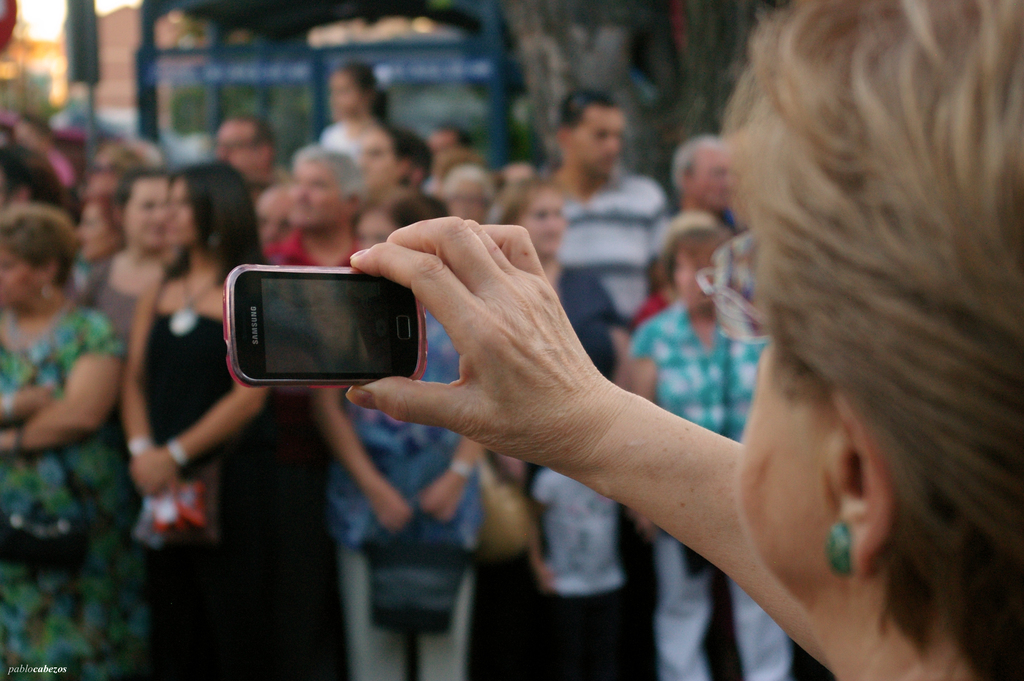Mobile-phone: (225, 258, 426, 387)
